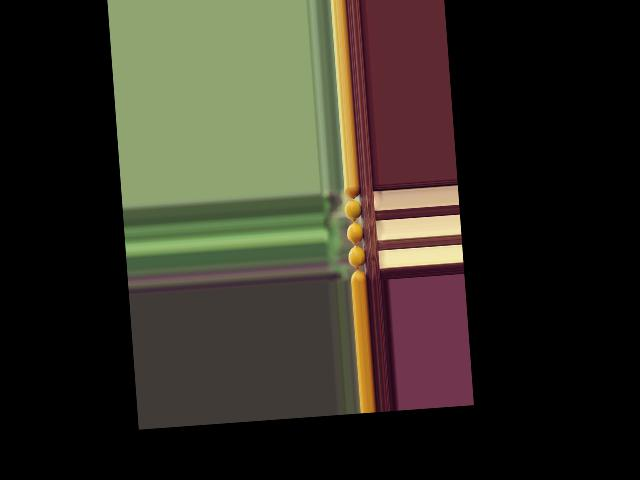lemon: (349, 269, 366, 281)
